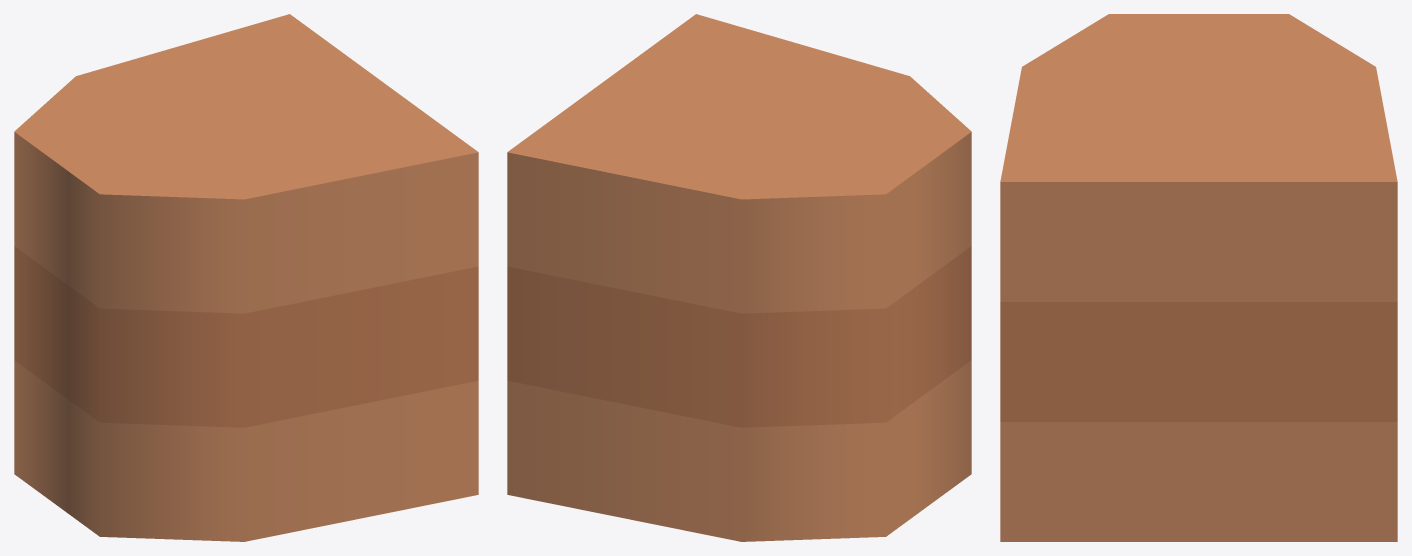
Rendered from normal_tile_middle_left.glb.
The picture shows the model from 3 angles, left to right: view 1: azimuth 30°, elevation 25°; view 2: azimuth 150°, elevation 25°; view 3: azimuth 270°, elevation 25°; orthographic projection. The views are drawn at different scales.
Visible parts, largest first — view 1: tile_middle_left; view 2: tile_middle_left; view 3: tile_middle_left.
Part boxes in pixels (left/top/right/bottom): tile_middle_left: left=14, top=14, right=478, bottom=541; tile_middle_left: left=507, top=14, right=971, bottom=541; tile_middle_left: left=1000, top=14, right=1397, bottom=541.
Size of the model in its own units: 0.5 by 0.5 by 0.5.
